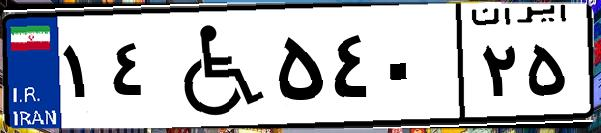0: (385, 28, 445, 110)
1: (57, 26, 110, 100)
2: (475, 38, 525, 113)
4: (330, 28, 385, 110), (110, 28, 158, 98)
5: (270, 28, 330, 110), (525, 38, 570, 115)
ژ (معلولین و جانبازان): (158, 12, 270, 120)
